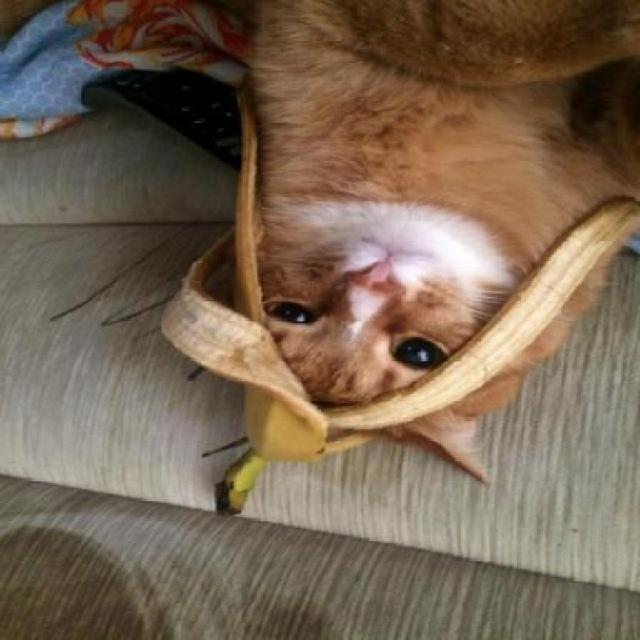cat: (198, 0, 613, 472)
